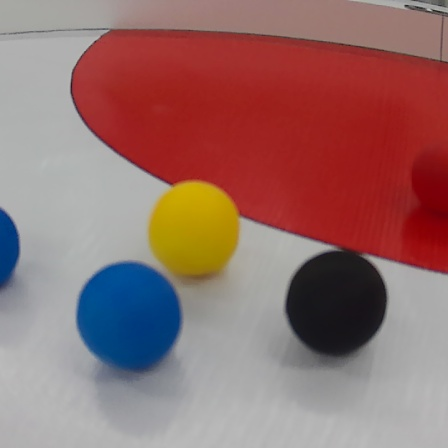black: (282, 246, 390, 363)
blue: (62, 252, 182, 377), (0, 206, 22, 292)
red: (410, 136, 448, 208)
red_base: (73, 14, 448, 276)
yellow: (147, 179, 239, 279)
